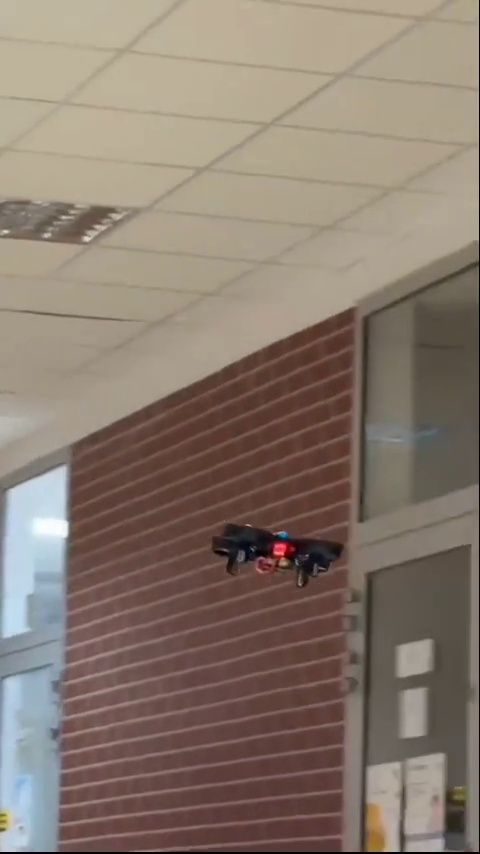drone: (212, 520, 337, 578)
